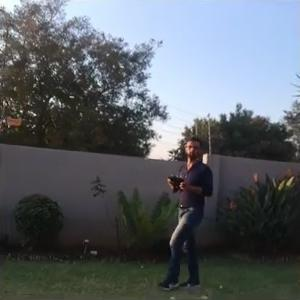follow: (154, 131, 214, 292)
